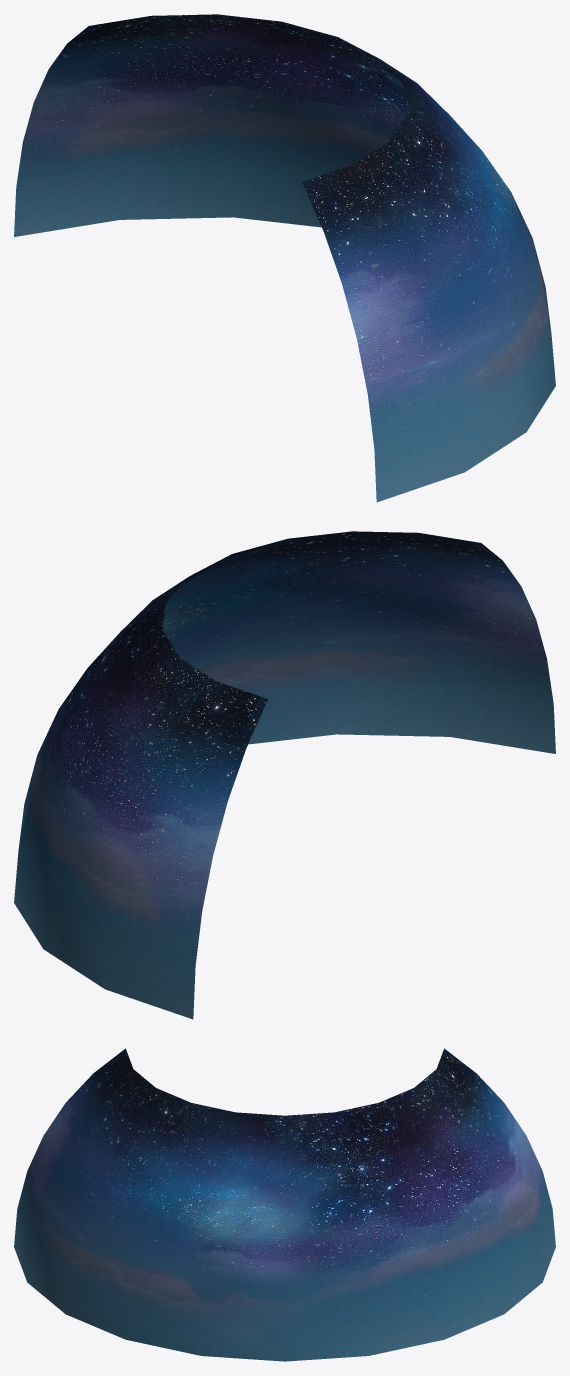
Rendered from TianKong01.fbx.
The picture shows the model from 3 angles, top to bottom: view 1: azimuth 30°, elevation 25°; view 2: azimuth 150°, elevation 25°; view 3: azimuth 270°, elevation 25°; orthographic projection. The views are drawn at different scales.
Visible parts, largest first — view 1: TianKong01; view 2: TianKong01; view 3: TianKong01.
Part boxes in pixels (left/top/right/bottom): TianKong01: left=14, top=14, right=555, bottom=502; TianKong01: left=14, top=531, right=555, bottom=1019; TianKong01: left=14, top=1048, right=555, bottom=1361.
Bounding box in the file's own units: 49.98 × 40.44 × 99.97.
